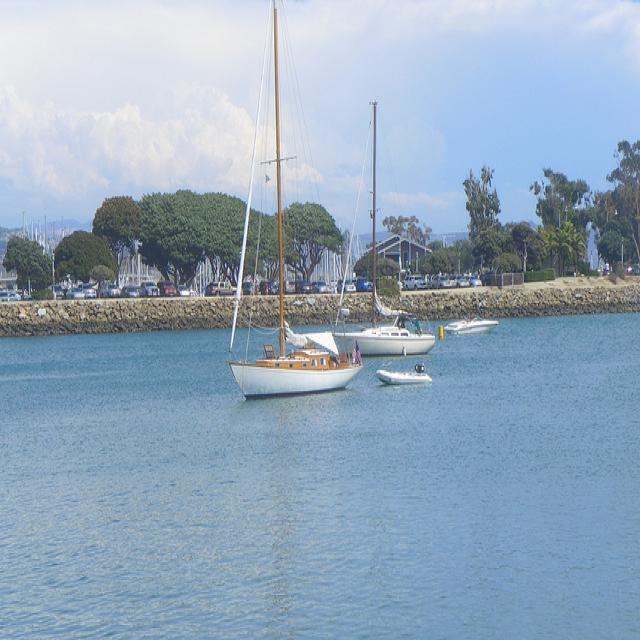Vehicle: (1, 273, 444, 306), (156, 281, 178, 297), (405, 276, 428, 290), (353, 277, 374, 292), (100, 283, 120, 298), (120, 285, 140, 297), (296, 279, 312, 294), (174, 283, 192, 296), (440, 275, 458, 288), (65, 287, 85, 298), (296, 282, 316, 292), (312, 281, 328, 293), (54, 284, 65, 299), (467, 276, 482, 286), (457, 278, 469, 288), (9, 292, 22, 301)
